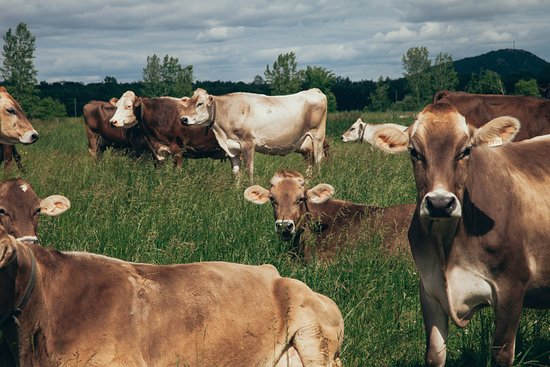cow: (405, 108, 514, 223), (254, 171, 343, 243), (3, 175, 69, 237), (1, 82, 39, 148), (103, 94, 147, 130), (183, 86, 216, 132), (337, 113, 368, 147)
